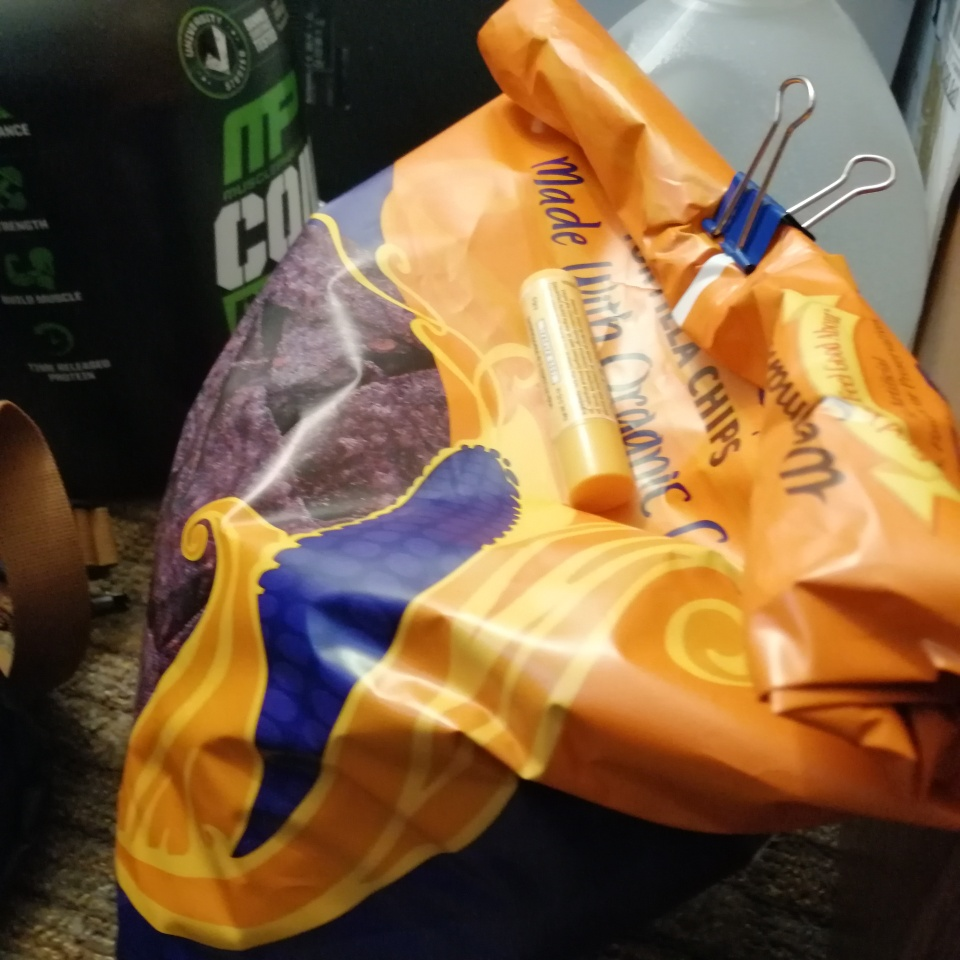chapstick: (522, 267, 637, 513)
